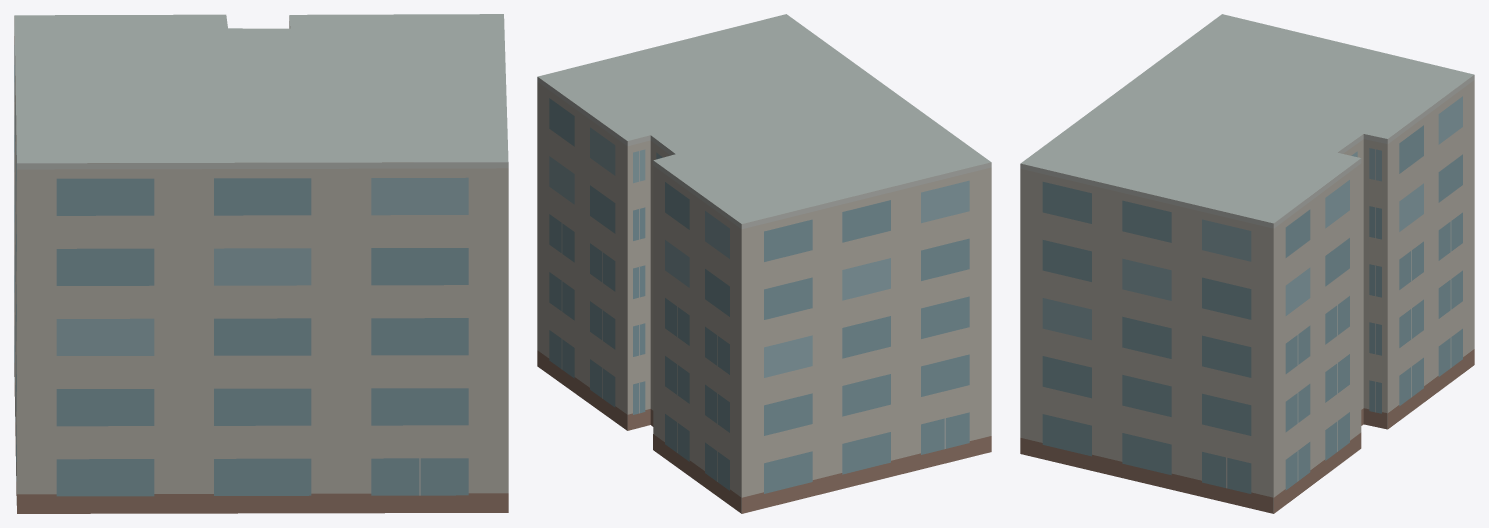
Rendered from survey-upis-32717263.glb.
3 renders of one model, left to right at view 1: azimuth 30°, elevation 25°; view 2: azimuth 150°, elevation 25°; view 3: azimuth 270°, elevation 25°, orthographic. The views are drawn at different scales.
Visible parts, largest first — view 1: survey-upis-32717263.tmp; view 2: survey-upis-32717263.tmp; view 3: survey-upis-32717263.tmp.
Boxes of the visible parts, <box> form: survey-upis-32717263.tmp: <box>14,14,508,513</box>; survey-upis-32717263.tmp: <box>537,14,991,513</box>; survey-upis-32717263.tmp: <box>1020,14,1474,513</box>.
Size of the model in its own units: 21.05 by 13.6 by 19.28.
